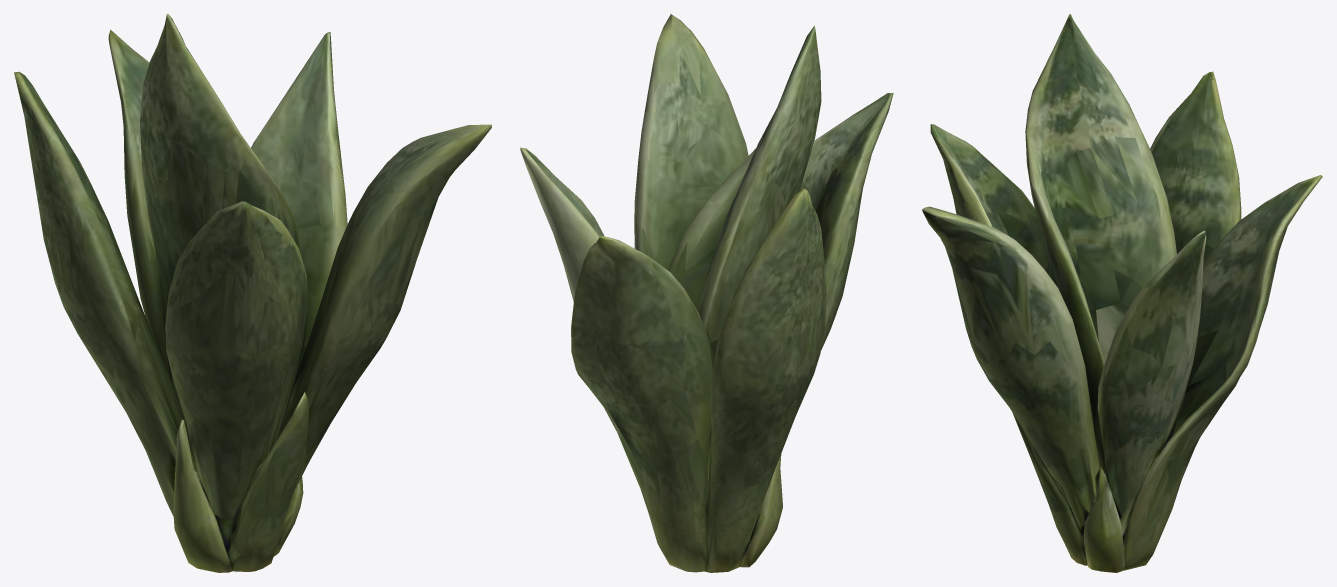
File: cafe-plant-snake.glb
3 views of the same model, side by side, from view 1: azimuth 30°, elevation 25°; view 2: azimuth 150°, elevation 25°; view 3: azimuth 270°, elevation 25° (orthographic). The views are drawn at different scales.
Parts seen in each view (by area): view 1: tripo_node_82a1604d-84af-42b2-a784-07ebe7ff06f4; view 2: tripo_node_82a1604d-84af-42b2-a784-07ebe7ff06f4; view 3: tripo_node_82a1604d-84af-42b2-a784-07ebe7ff06f4.
Part boxes in pixels (x1=…): tripo_node_82a1604d-84af-42b2-a784-07ebe7ff06f4: x1=14, y1=14, x2=491, y2=572; tripo_node_82a1604d-84af-42b2-a784-07ebe7ff06f4: x1=520, y1=14, x2=893, y2=572; tripo_node_82a1604d-84af-42b2-a784-07ebe7ff06f4: x1=922, y1=14, x2=1322, y2=572.
Bounding box in the file's own units: 0.3398 × 0.6 × 0.4327.
Materials: 1 (1 with a texture image).
